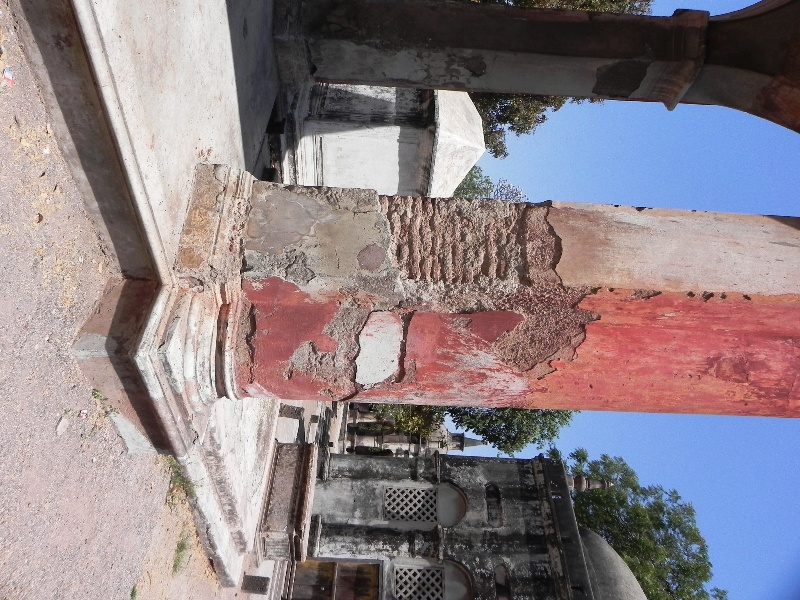Exposed Bricks: (381, 197, 525, 280)
Spalling: (492, 283, 613, 390), (231, 287, 259, 394)
